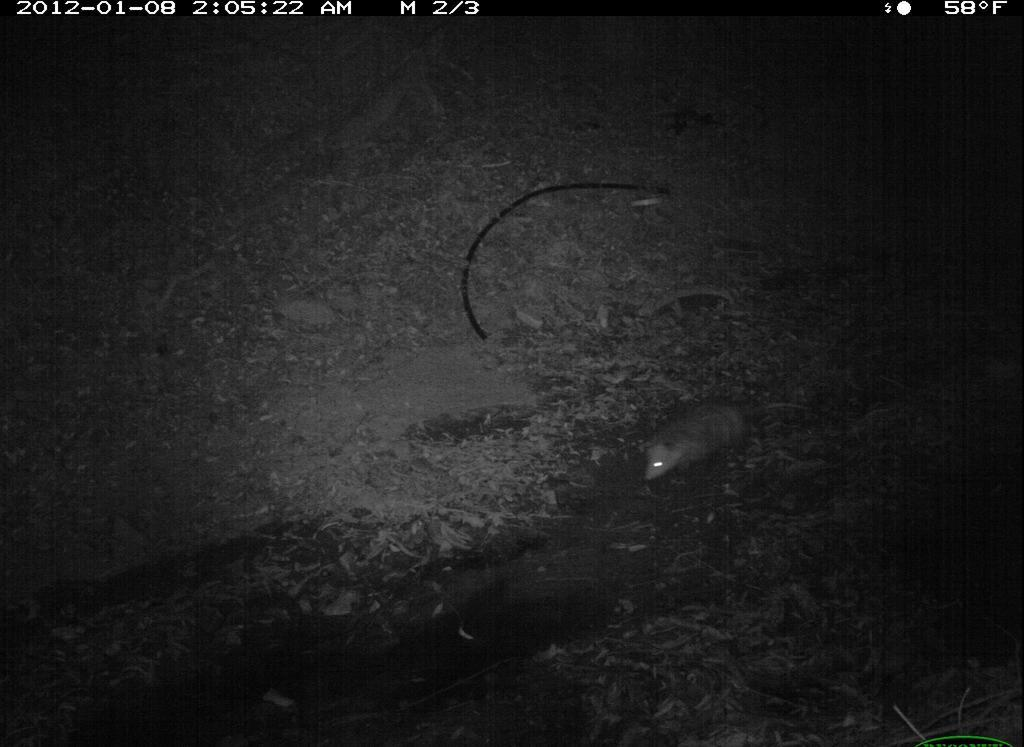opossum: (615, 385, 799, 491)
